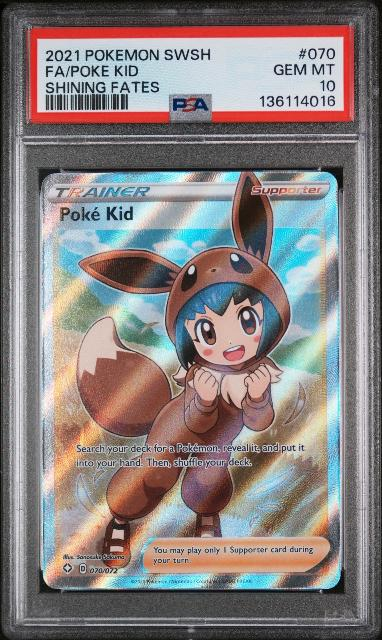Card: (39, 164, 346, 595)
Name: (56, 202, 138, 226)
